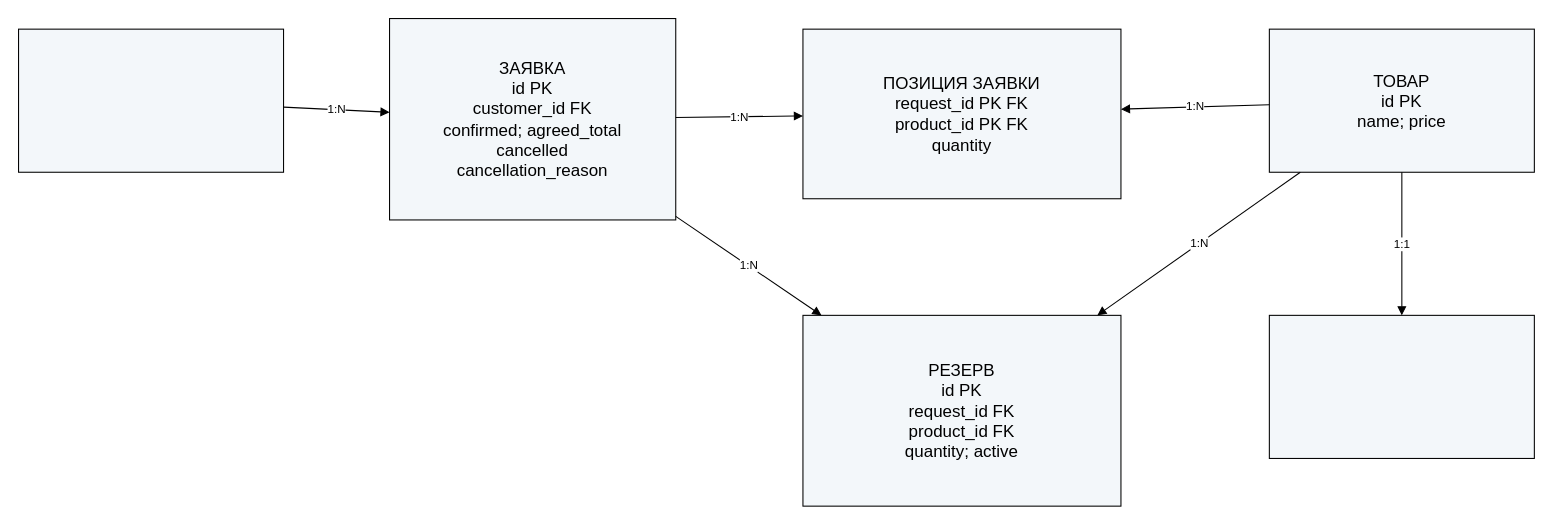
Image size: 1553x525. Some labels were removed from this diagram. Each missing label, with the box of its shape:
ОСТАТОК product_id PK FK quantity: (1268, 314, 1534, 458)
ПОКУПАТЕЛЬ id PK name: (17, 28, 284, 172)
